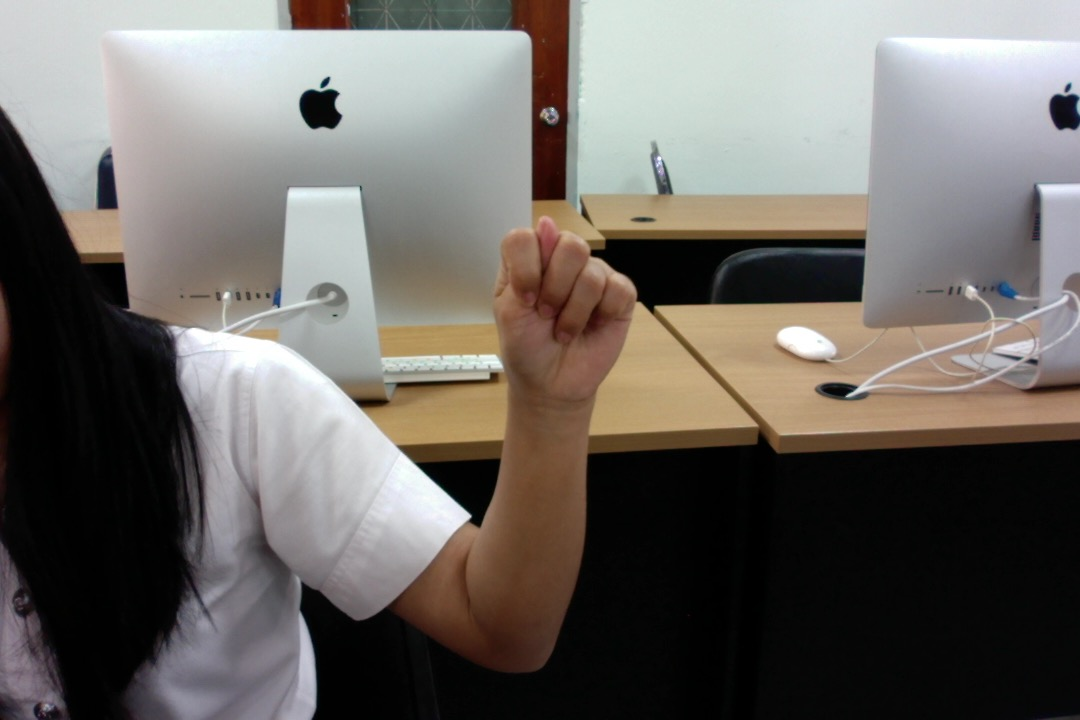tor: (485, 214, 641, 424)
